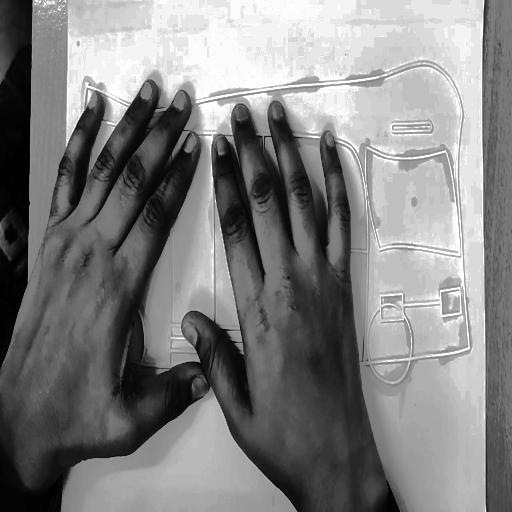bus: (65, 52, 483, 406)
